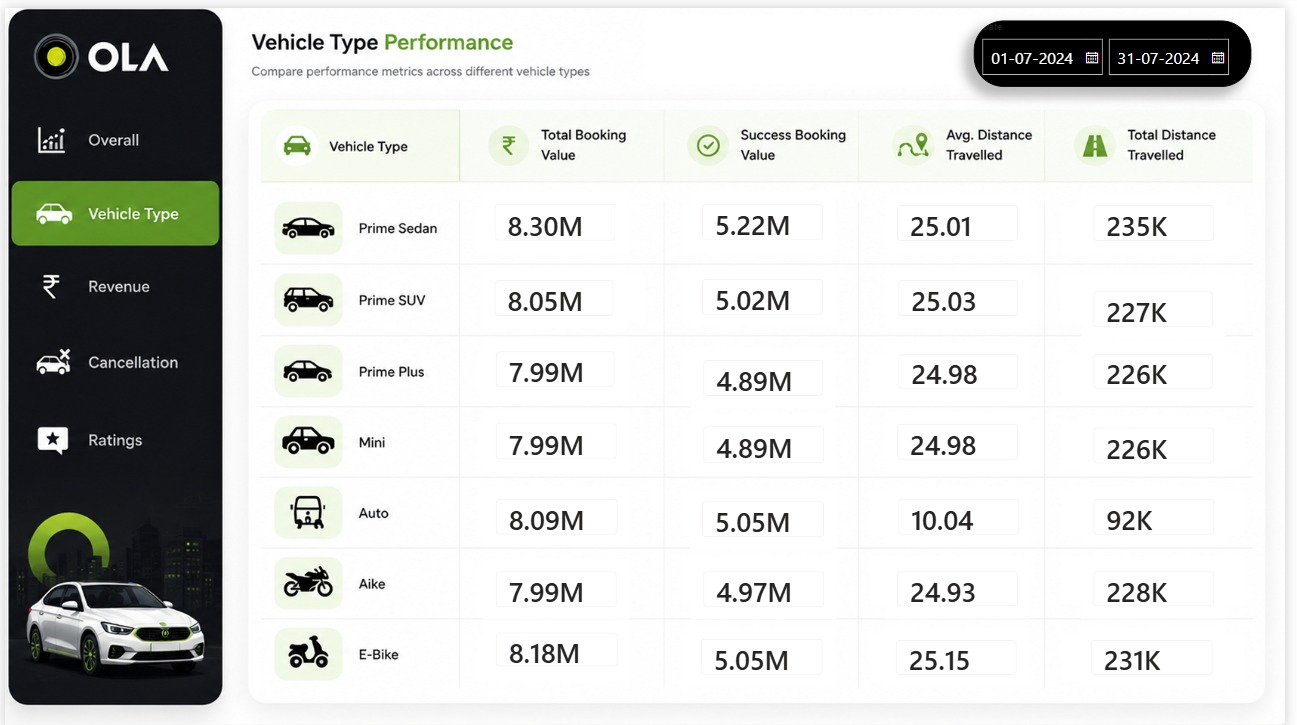

The dashboard page shown, as its layout file describes it:
{"tool":"powerbi","page":{"name":"Vehicle Type","canvas":[1280,720],"ordinal":1},"visuals":[{"type":"actionButton","box":[0.9,109.1,215.5,60.9],"z":0},{"type":"actionButton","box":[0.9,243.6,215.5,75.5],"z":1000},{"type":"actionButton","box":[0.9,320,215.5,60.9],"z":2000},{"type":"actionButton","box":[1.8,400,215.5,68.2],"z":3000},{"type":"cardVisual","fields":{"Data":["Sum(July.Booking_Value)"]},"box":[685,184.2,145,60],"z":4000},{"type":"cardVisual","fields":{"Data":["Sum(July.Booking_Value)"]},"box":[685,259.2,145,60],"z":5000},{"type":"cardVisual","fields":{"Data":["Sum(July.Booking_Value)"]},"box":[685.8,340,144.2,60],"z":6000},{"type":"cardVisual","fields":{"Data":["Sum(July.Booking_Value)"]},"box":[685.8,406.7,145,61.7],"z":7000},{"type":"cardVisual","fields":{"Data":["Sum(July.Booking_Value)"]},"box":[685,480.8,146.7,60],"z":8000},{"type":"cardVisual","fields":{"Data":["Sum(July.Booking_Value)"]},"box":[685.8,550.8,145,60],"z":9000},{"type":"cardVisual","fields":{"Data":["Sum(July.Booking_Value)"]},"box":[684.2,619.2,146.7,60],"z":10000},{"type":"cardVisual","fields":{"Data":["Sum(July.Booking_Value)"]},"box":[477.5,183.8,145,61.2],"z":11000},{"type":"cardVisual","fields":{"Data":["Sum(July.Booking_Value)"]},"box":[477.5,260,143.8,60],"z":12000},{"type":"cardVisual","fields":{"Data":["Sum(July.Booking_Value)"]},"box":[478.8,331.2,143.8,60],"z":13000},{"type":"cardVisual","fields":{"Data":["Sum(July.Booking_Value)"]},"box":[478.8,402.5,145,61.2],"z":14000},{"type":"cardVisual","fields":{"Data":["Sum(July.Booking_Value)"]},"box":[478.8,478.8,146.2,60],"z":15000},{"type":"cardVisual","fields":{"Data":["Sum(July.Booking_Value)"]},"box":[478.8,551.2,145,60],"z":16000},{"type":"cardVisual","fields":{"Data":["Sum(July.Booking_Value)"]},"box":[478.8,612.5,146.2,58.8],"z":17000},{"type":"cardVisual","fields":{"Data":["Avg(July.Ride_Distance)"]},"box":[880,185,145,60.8],"z":18000},{"type":"cardVisual","fields":{"Data":["Avg(July.Ride_Distance)"]},"box":[880.8,260,144.2,60],"z":19000},{"type":"cardVisual","fields":{"Data":["Avg(July.Ride_Distance)"]},"box":[880.8,334.2,144.2,59.2],"z":20000},{"type":"cardVisual","fields":{"Data":["Avg(July.Ride_Distance)"]},"box":[880,403.3,145,60.8],"z":21000},{"type":"cardVisual","fields":{"Data":["Avg(July.Ride_Distance)"]},"box":[880.8,479.2,145.8,60],"z":22000},{"type":"cardVisual","fields":{"Data":["Avg(July.Ride_Distance)"]},"box":[880,550.8,145,59.2],"z":23000},{"type":"cardVisual","fields":{"Data":["Avg(July.Ride_Distance)"]},"box":[879.2,620,145.8,59.2],"z":24000},{"type":"cardVisual","fields":{"Data":["Sum(July.Ride_Distance)"]},"box":[1076.7,185,145,60.8],"z":25000},{"type":"cardVisual","fields":{"Data":["Sum(July.Ride_Distance)"]},"box":[1076.7,270.8,144.2,60.8],"z":26000},{"type":"cardVisual","fields":{"Data":["Sum(July.Ride_Distance)"]},"box":[1076.7,334.2,144.2,59.2],"z":27000},{"type":"cardVisual","fields":{"Data":["Sum(July.Ride_Distance)"]},"box":[1075.8,407.5,145,60.8],"z":28000},{"type":"cardVisual","fields":{"Data":["Sum(July.Ride_Distance)"]},"box":[1075.8,479.2,145.8,60],"z":29000},{"type":"cardVisual","fields":{"Data":["Sum(July.Ride_Distance)"]},"box":[1075.8,550.8,145,59.2],"z":30000},{"type":"cardVisual","fields":{"Data":["Sum(July.Ride_Distance)"]},"box":[1074.2,620,146.7,59.2],"z":31000},{"type":"slicer","title":"DATE","fields":{"Values":["July.Date"]},"box":[968.8,12.5,277.5,66.2],"z":32000}]}

Visuals, with their boxes on the page's 1280x720 design canvas (x1, y1, x2, y2). These are canvas units, not pixel positions in the 1297x725 screenshot, which may show the page scaled, cropped or inside an application window:
actionButton: [1,109,216,170]
actionButton: [1,244,216,319]
actionButton: [1,320,216,381]
actionButton: [2,400,217,468]
cardVisual - Sum(July.Booking_Value): [685,184,830,244]
cardVisual - Sum(July.Booking_Value): [685,259,830,319]
cardVisual - Sum(July.Booking_Value): [686,340,830,400]
cardVisual - Sum(July.Booking_Value): [686,407,831,468]
cardVisual - Sum(July.Booking_Value): [685,481,832,541]
cardVisual - Sum(July.Booking_Value): [686,551,831,611]
cardVisual - Sum(July.Booking_Value): [684,619,831,679]
cardVisual - Sum(July.Booking_Value): [478,184,622,245]
cardVisual - Sum(July.Booking_Value): [478,260,621,320]
cardVisual - Sum(July.Booking_Value): [479,331,623,391]
cardVisual - Sum(July.Booking_Value): [479,402,624,464]
cardVisual - Sum(July.Booking_Value): [479,479,625,539]
cardVisual - Sum(July.Booking_Value): [479,551,624,611]
cardVisual - Sum(July.Booking_Value): [479,612,625,671]
cardVisual - Avg(July.Ride_Distance): [880,185,1025,246]
cardVisual - Avg(July.Ride_Distance): [881,260,1025,320]
cardVisual - Avg(July.Ride_Distance): [881,334,1025,393]
cardVisual - Avg(July.Ride_Distance): [880,403,1025,464]
cardVisual - Avg(July.Ride_Distance): [881,479,1027,539]
cardVisual - Avg(July.Ride_Distance): [880,551,1025,610]
cardVisual - Avg(July.Ride_Distance): [879,620,1025,679]
cardVisual - Sum(July.Ride_Distance): [1077,185,1222,246]
cardVisual - Sum(July.Ride_Distance): [1077,271,1221,332]
cardVisual - Sum(July.Ride_Distance): [1077,334,1221,393]
cardVisual - Sum(July.Ride_Distance): [1076,408,1221,468]
cardVisual - Sum(July.Ride_Distance): [1076,479,1222,539]
cardVisual - Sum(July.Ride_Distance): [1076,551,1221,610]
cardVisual - Sum(July.Ride_Distance): [1074,620,1221,679]
"DATE" slicer: [969,12,1246,79]
